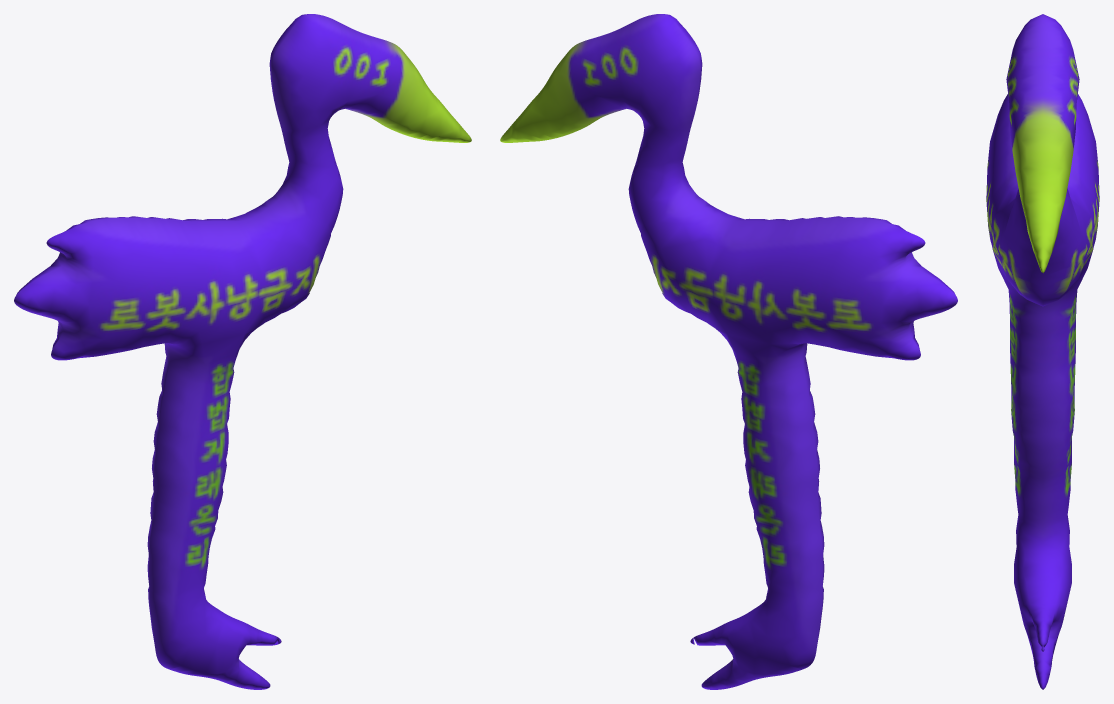
Rendered from bird3.glb.
3 renders of one model, left to right at view 1: azimuth 30°, elevation 25°; view 2: azimuth 150°, elevation 25°; view 3: azimuth 270°, elevation 25°, orthographic. The views are drawn at different scales.
Parts seen in each view (by area): view 1: Mesh_0.005; view 2: Mesh_0.005; view 3: Mesh_0.005.
Boxes of the visible parts, box(x1,y1,x2,y2) form: Mesh_0.005: box(14, 14, 471, 689); Mesh_0.005: box(500, 14, 957, 689); Mesh_0.005: box(986, 14, 1099, 689).
Bounding box in the file's own units: 230 × 320 × 47.2.
1 material, 1 textured.
